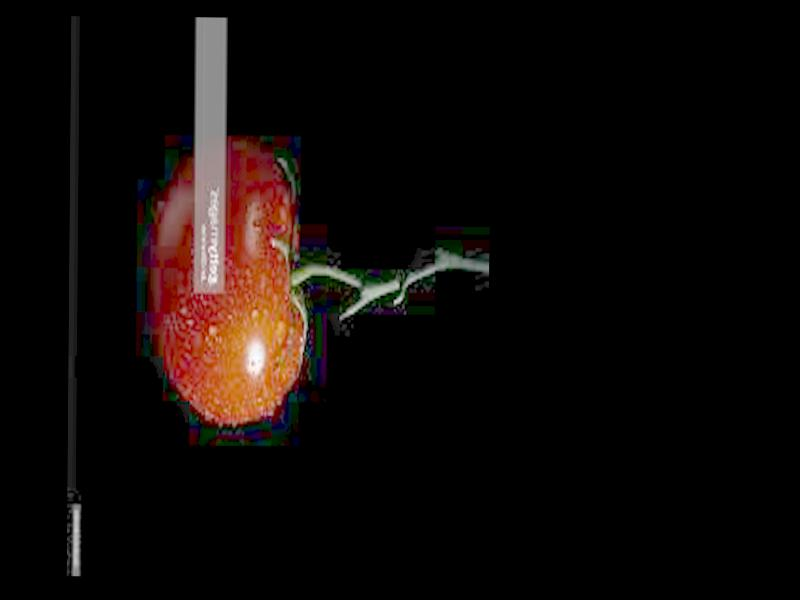Tomato: (155, 149, 303, 423)
